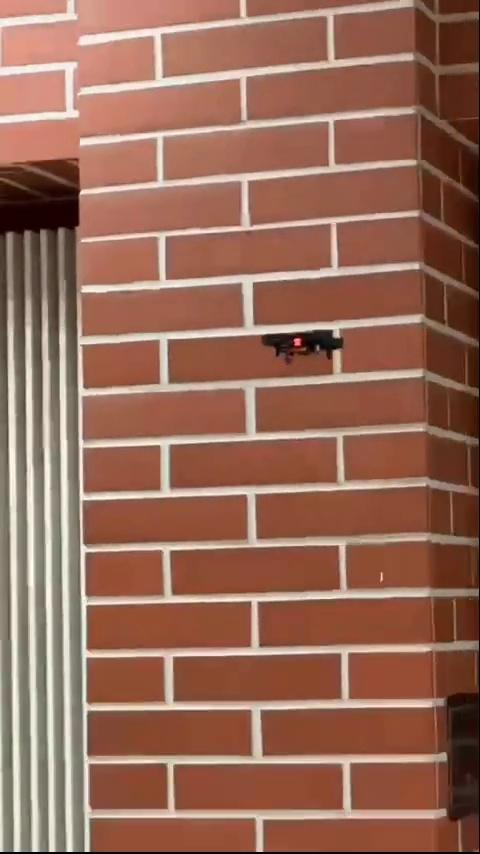drone: (263, 327, 355, 361)
